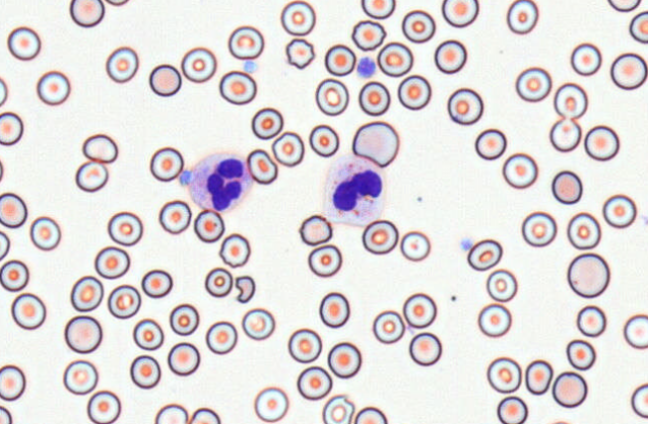GRAN: (323, 150, 384, 228), (187, 151, 253, 213)
PLT: (356, 56, 378, 79), (242, 59, 258, 73), (459, 236, 473, 252), (179, 171, 193, 186)
RBC: (567, 252, 610, 298), (64, 315, 102, 353), (610, 52, 647, 90), (447, 87, 483, 125), (10, 292, 46, 330), (515, 66, 552, 102), (180, 46, 216, 83), (377, 41, 413, 77), (253, 386, 289, 422), (584, 124, 619, 161), (361, 219, 398, 254), (502, 152, 537, 189), (552, 371, 587, 408), (219, 70, 256, 105), (486, 356, 521, 393), (566, 212, 601, 249), (315, 78, 349, 116), (296, 365, 332, 400), (521, 211, 556, 247), (107, 211, 143, 246), (63, 359, 98, 395), (280, 0, 315, 36), (227, 25, 264, 59), (553, 82, 587, 119), (327, 341, 361, 378), (287, 328, 322, 363), (149, 146, 183, 182), (397, 74, 431, 110), (94, 245, 130, 279), (402, 292, 436, 328), (70, 275, 103, 312), (105, 46, 138, 83), (107, 284, 141, 319), (36, 70, 70, 105), (86, 390, 121, 424), (602, 194, 637, 228), (271, 131, 304, 167), (401, 9, 435, 43), (7, 26, 41, 60), (477, 303, 511, 337), (307, 244, 342, 277), (467, 238, 502, 271), (434, 39, 467, 74), (372, 309, 405, 344), (319, 291, 350, 328), (167, 342, 200, 376), (158, 200, 191, 234), (408, 332, 441, 366), (241, 307, 275, 340), (351, 19, 386, 51), (218, 233, 250, 268), (549, 117, 581, 152), (129, 354, 161, 389), (358, 81, 390, 116), (29, 216, 61, 251), (148, 63, 181, 96), (205, 320, 237, 354), (506, 0, 538, 34), (570, 42, 602, 76), (82, 133, 118, 163), (75, 160, 108, 192), (298, 214, 332, 245), (193, 208, 224, 242), (486, 268, 517, 302), (551, 170, 582, 204), (524, 359, 553, 395), (441, 0, 479, 27), (474, 128, 506, 160), (132, 318, 164, 350), (251, 107, 283, 139), (324, 44, 356, 76), (308, 124, 339, 157), (576, 304, 606, 337), (0, 192, 27, 228), (169, 303, 199, 335), (69, 0, 104, 27), (285, 38, 315, 69), (400, 230, 430, 261), (0, 259, 29, 291), (0, 364, 25, 401), (141, 269, 172, 298), (566, 339, 595, 370), (496, 395, 527, 424), (623, 314, 648, 349), (204, 267, 233, 297), (0, 111, 23, 145), (154, 403, 188, 424), (360, 0, 395, 19), (630, 383, 648, 418), (629, 10, 648, 43), (353, 406, 387, 424), (188, 407, 220, 424), (607, 0, 641, 12), (0, 230, 10, 260), (0, 76, 8, 106), (0, 405, 12, 424), (104, 0, 130, 6), (544, 419, 575, 424), (0, 157, 3, 182)
Schistocyte: (353, 121, 400, 169), (321, 394, 356, 424), (235, 275, 256, 304)
